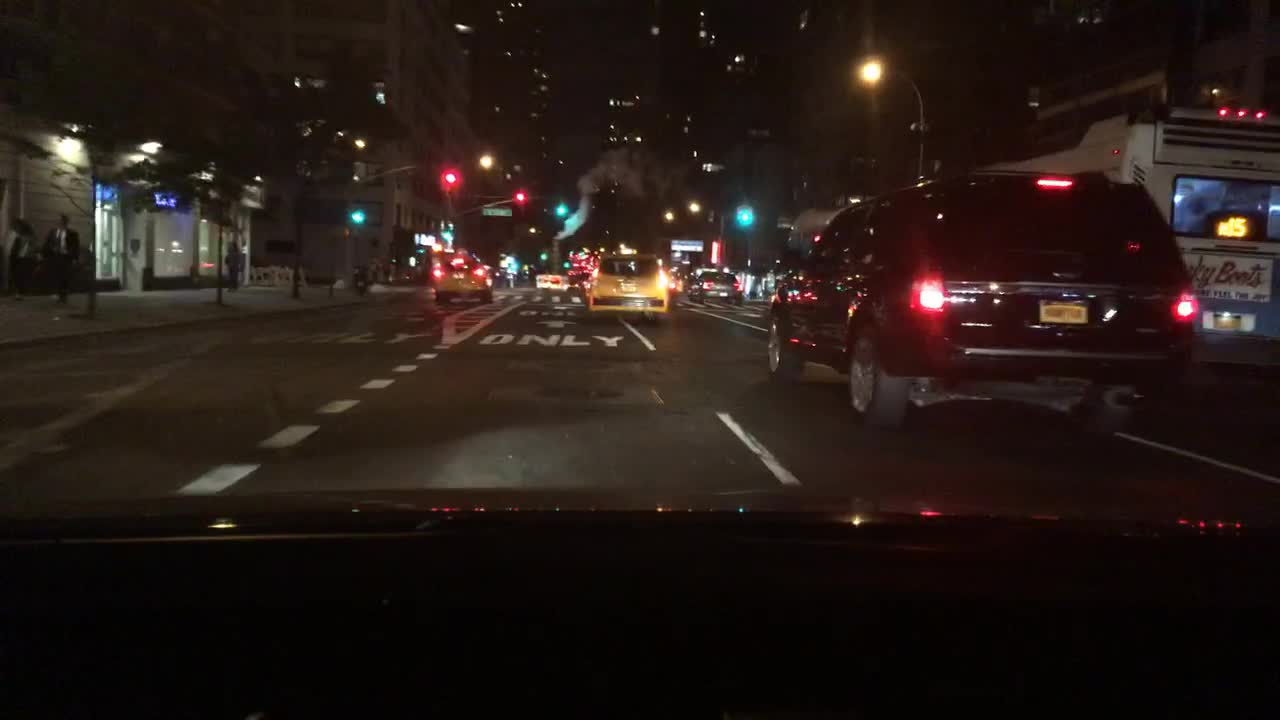bus: (1013, 95, 1278, 362)
car: (759, 164, 1212, 453), (583, 252, 676, 324), (430, 250, 494, 307), (693, 269, 743, 308), (571, 258, 599, 278), (678, 268, 696, 299), (537, 273, 563, 292), (564, 275, 582, 294), (517, 265, 533, 281), (669, 277, 682, 293), (493, 267, 503, 281)
person: (43, 210, 77, 305), (7, 219, 39, 305), (224, 242, 243, 292), (505, 262, 513, 285)
traffic light: (732, 205, 752, 227), (439, 170, 462, 185), (708, 239, 719, 264), (551, 204, 568, 216), (436, 227, 451, 239), (351, 211, 365, 223), (511, 190, 524, 201), (540, 252, 550, 261), (431, 242, 442, 250), (563, 260, 572, 269)
traffic sign: (669, 238, 704, 251), (479, 206, 512, 216), (680, 259, 689, 267)
